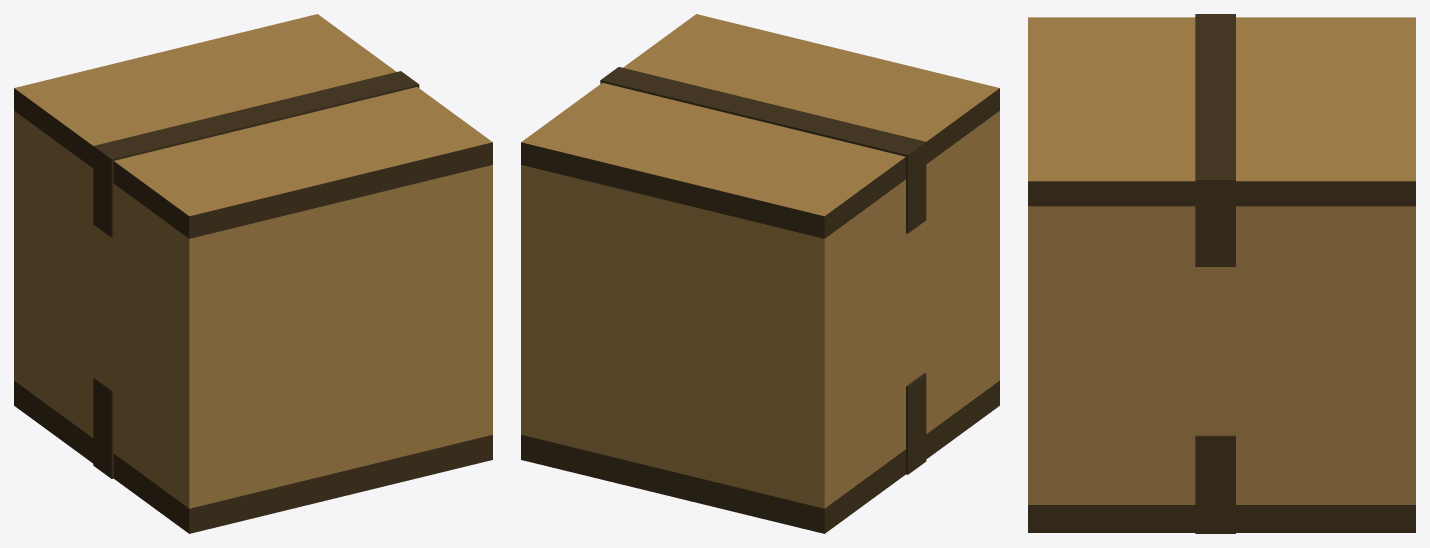
Rendered from carton 1.FBX.
3 views of the same model, side by side, from view 1: azimuth 30°, elevation 25°; view 2: azimuth 150°, elevation 25°; view 3: azimuth 270°, elevation 25° (orthographic). The views are drawn at different scales.
Parts seen in each view (by area): view 1: Box006; view 2: Box006; view 3: Box006.
Part boxes in pixels (bbox=[...]): Box006: bbox=[14, 14, 492, 533]; Box006: bbox=[521, 14, 999, 533]; Box006: bbox=[1028, 14, 1415, 533].
Size of the model in its own units: 142 by 141 by 140.
